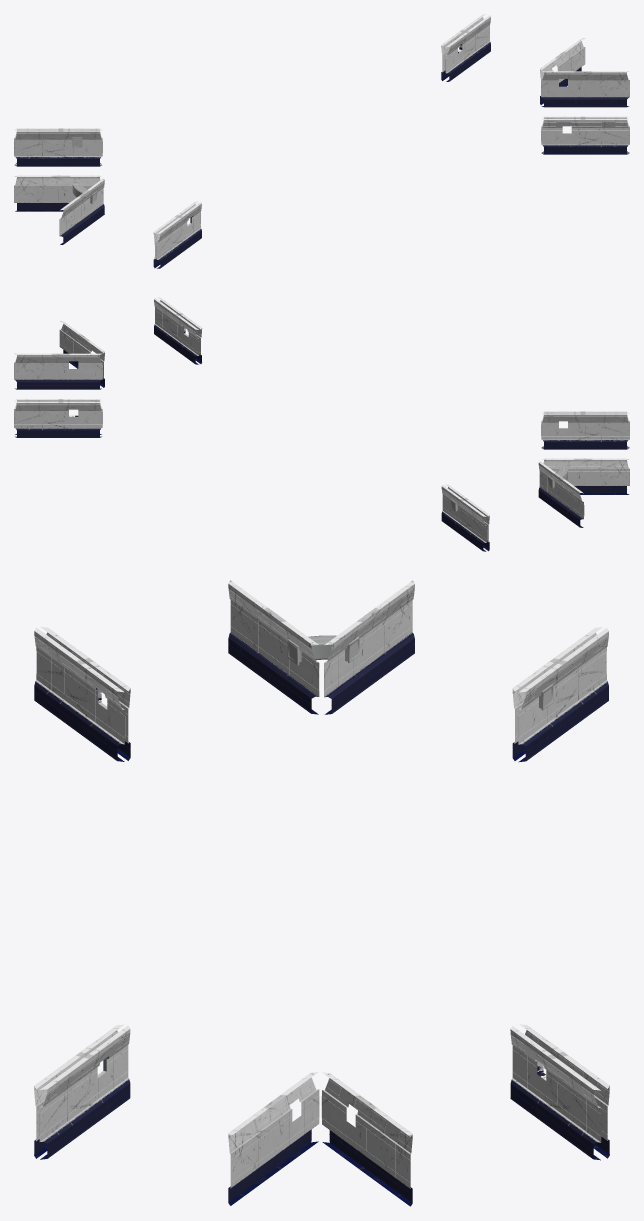
File: Room2_ispr.fbx
The picture shows the model from 3 angles, top to bottom: view 1: azimuth 30°, elevation 25°; view 2: azimuth 150°, elevation 25°; view 3: azimuth 270°, elevation 25°; orthographic projection. The views are drawn at different scales.
Parts seen in each view (by area): view 1: Wall_05_Panels.014, Wall_05_Panels.030, Wall_05_Panels.015, Wall_05_Panels.036, Wall_05_Panels.007, Wall_05_Panels.025, Wall_05_Panels.075, Wall_05_Panels.011; view 2: Wall_05_Panels.007, Wall_05_Panels.025, Wall_05_Panels.011, Wall_05_Panels.075, Wall_05_Panels.014, Wall_05_Panels.030, Wall_05_Panels.036, Wall_05_Panels.015; view 3: Wall_05_Panels.007, Wall_05_Panels.014, Wall_05_Panels.025, Wall_05_Panels.030, Wall_05_Panels.015, Wall_05_Panels.011, Wall_05_Panels.075, Wall_05_Panels.036, Cube.011.
Part boxes in pixels (x1,y1,x2,y2): Wall_05_Panels.014: [541, 116, 629, 154]; Wall_05_Panels.030: [14, 128, 102, 166]; Wall_05_Panels.015: [541, 71, 629, 107]; Wall_05_Panels.036: [14, 175, 101, 211]; Wall_05_Panels.007: [441, 14, 490, 81]; Wall_05_Panels.025: [153, 201, 201, 268]; Wall_05_Panels.075: [59, 178, 104, 244]; Wall_05_Panels.011: [540, 38, 585, 104]; Wall_05_Panels.007: [14, 399, 102, 437]; Wall_05_Panels.025: [541, 411, 629, 449]; Wall_05_Panels.011: [14, 353, 102, 389]; Wall_05_Panels.075: [542, 458, 629, 494]; Wall_05_Panels.014: [154, 297, 202, 364]; Wall_05_Panels.030: [441, 484, 489, 551]; Wall_05_Panels.036: [538, 461, 584, 527]; Wall_05_Panels.015: [59, 321, 104, 387]; Wall_05_Panels.007: [510, 1024, 609, 1160]; Wall_05_Panels.014: [34, 1024, 130, 1159]; Wall_05_Panels.025: [34, 626, 130, 761]; Wall_05_Panels.030: [512, 627, 608, 762]; Wall_05_Panels.015: [228, 1072, 319, 1205]; Wall_05_Panels.011: [321, 1072, 412, 1206]; Wall_05_Panels.075: [228, 580, 319, 714]; Wall_05_Panels.036: [324, 580, 414, 714]; Cube.011: [287, 635, 359, 665].
Size of the model in its own units: 5032 by 293 by 2197.
Materials: 2 (2 with a texture image).
